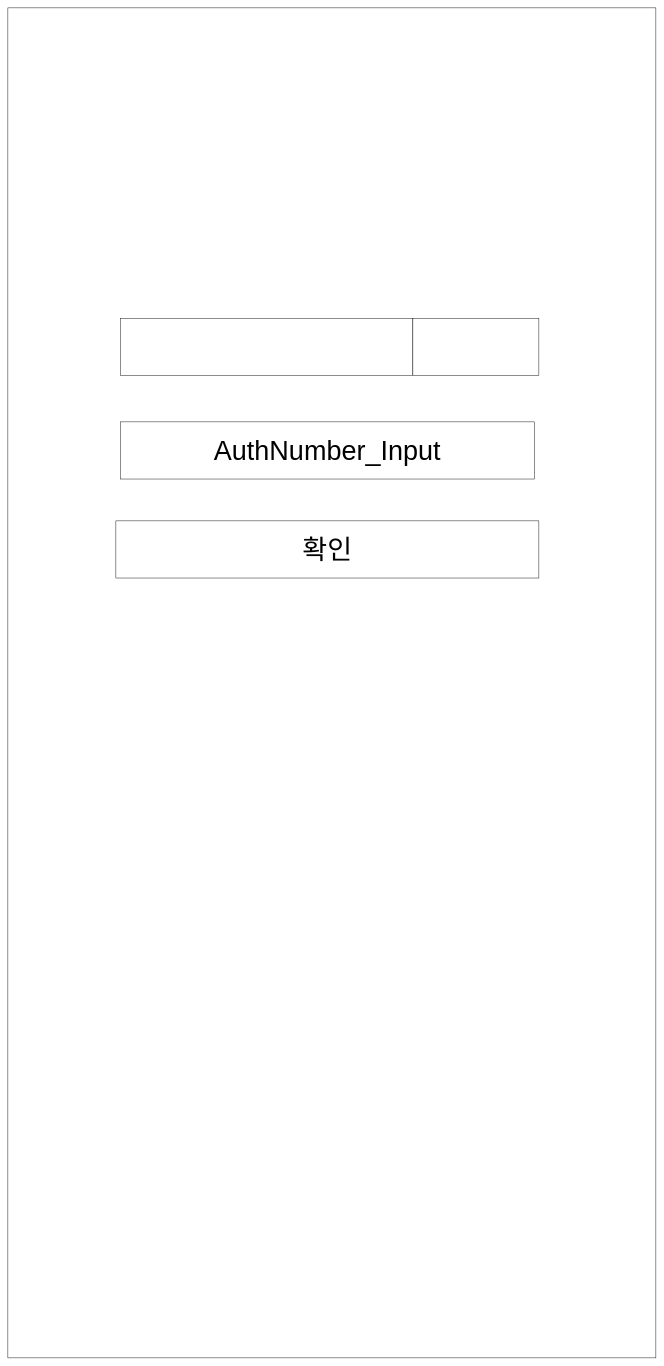
The diagram is 664 pixels wide and 1366 high, and some of its shapes have lost their labels. Each missing label, with the centre of its shape:
Phone_Input: point (266, 347)
전송: point (475, 347)
